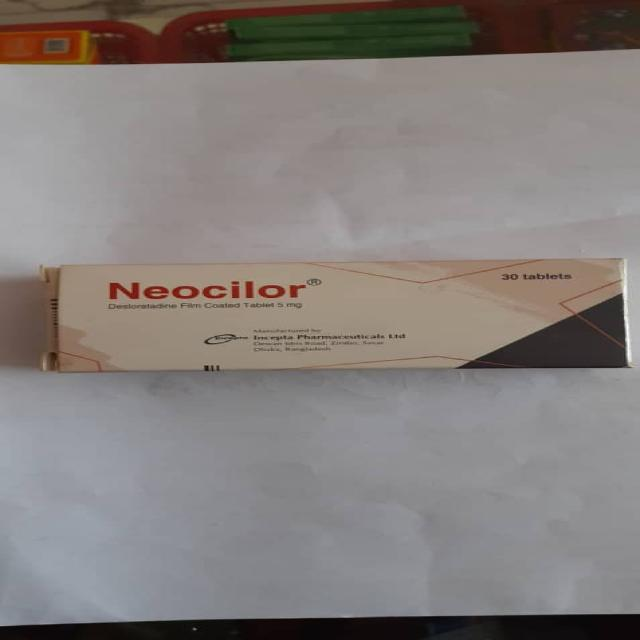drug-name: (108, 281, 304, 299)
